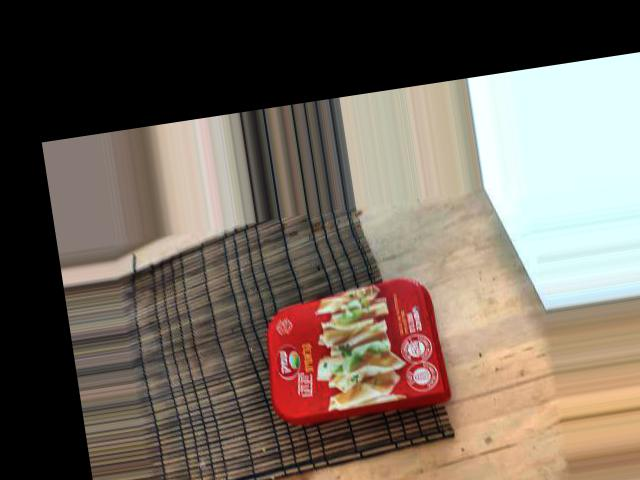cheese: (200, 200, 350, 408)
